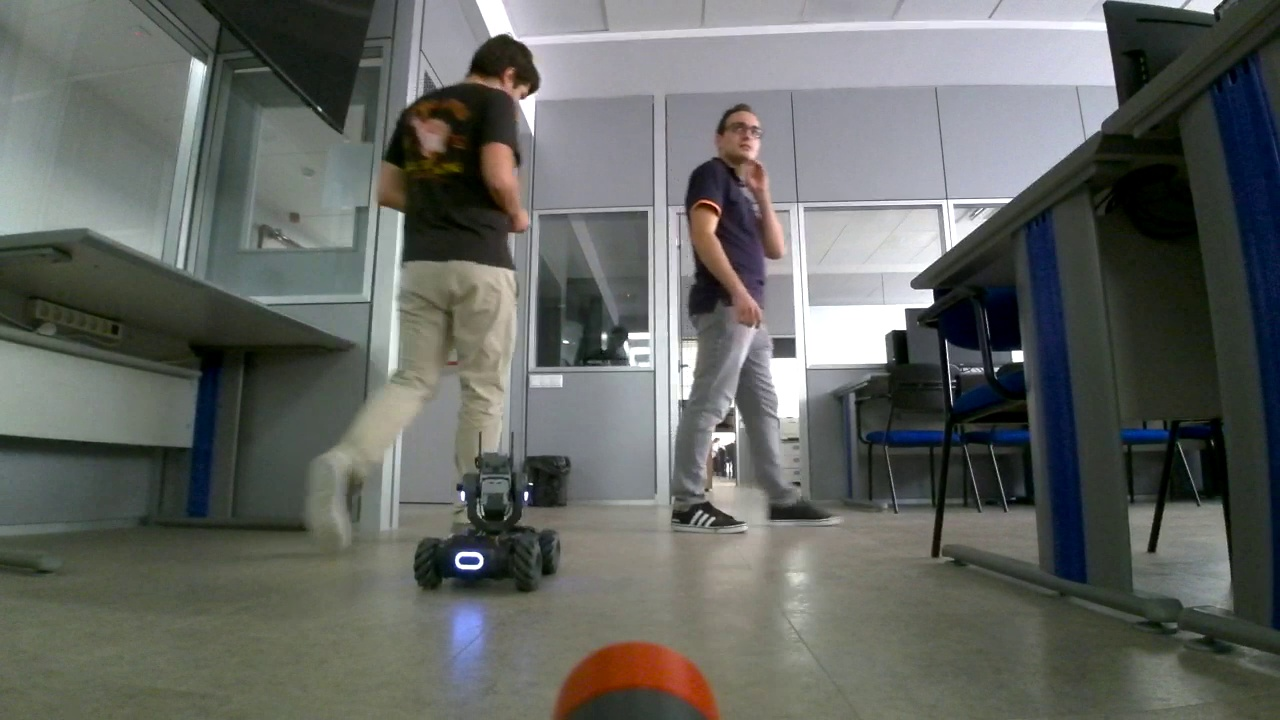robot: (409, 431, 562, 591)
